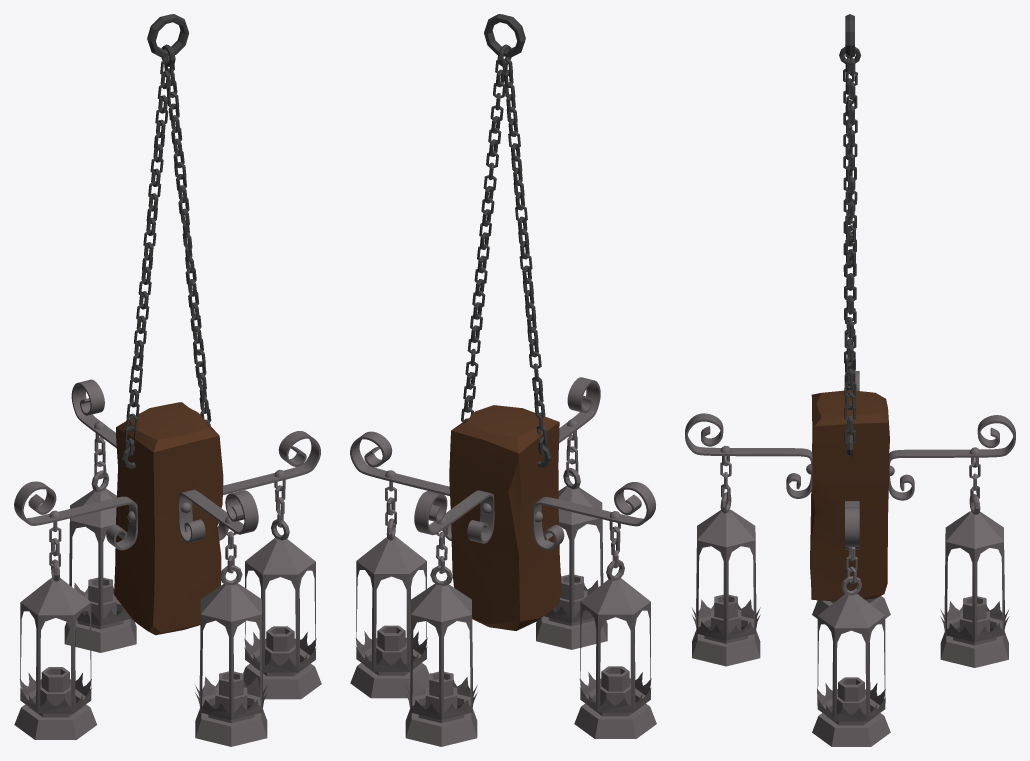
File: Hanging Lantern B.fbx
3 renders of one model, left to right at view 1: azimuth 30°, elevation 25°; view 2: azimuth 150°, elevation 25°; view 3: azimuth 270°, elevation 25°, orthographic. The views are drawn at different scales.
Visible parts, largest first — view 1: Lantern B Wood base, Lantern B 3, Lantern B 4, Lantern B 1, Lantern B chain, Lantern B 2; view 2: Lantern B Wood base, Lantern B 3, Lantern B 2, Lantern B 1, Lantern B chain, Lantern B 4; view 3: Lantern B Wood base, Lantern B 4, Lantern B 2, Lantern B 1, Lantern B chain, Lantern B 3.
Part boxes in pixels (left/top/right/bottom): Lantern B Wood base: left=114, top=402, right=223, bottom=635; Lantern B 3: left=14, top=481, right=137, bottom=739; Lantern B 4: left=178, top=489, right=267, bottom=746; Lantern B 1: left=217, top=431, right=321, bottom=699; Lantern B chain: left=121, top=14, right=211, bottom=468; Lantern B 2: left=64, top=379, right=136, bottom=652; Lantern B Wood base: left=449, top=405, right=561, bottom=630; Lantern B 3: left=532, top=482, right=656, bottom=738; Lantern B 2: left=405, top=490, right=494, bottom=746; Lantern B 1: left=350, top=431, right=451, bottom=698; Lantern B chain: left=461, top=14, right=551, bottom=467; Lantern B 4: left=536, top=377, right=607, bottom=649; Lantern B Wood base: left=810, top=390, right=889, bottom=601; Lantern B 4: left=685, top=413, right=812, bottom=666; Lantern B 2: left=888, top=415, right=1015, bottom=667; Lantern B 1: left=812, top=501, right=890, bottom=746; Lantern B chain: left=839, top=14, right=860, bottom=456; Lantern B 3: left=812, top=371, right=890, bottom=625.
Size of the model in its own units: 64.69 by 144 by 65.04.
